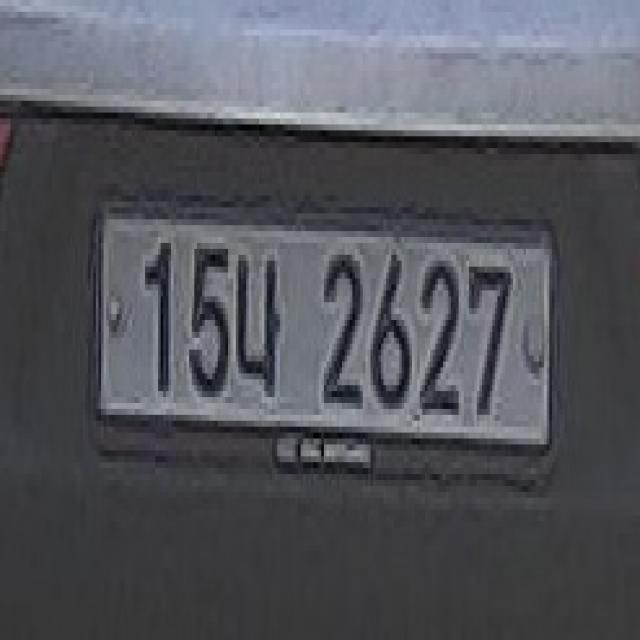1: (138, 219, 182, 415)
2: (316, 231, 371, 427), (414, 231, 464, 439)
5: (182, 219, 234, 433)
6: (368, 237, 417, 433)
7: (464, 231, 516, 439)
license_plate: (83, 172, 565, 515)
na: (233, 237, 285, 433)
